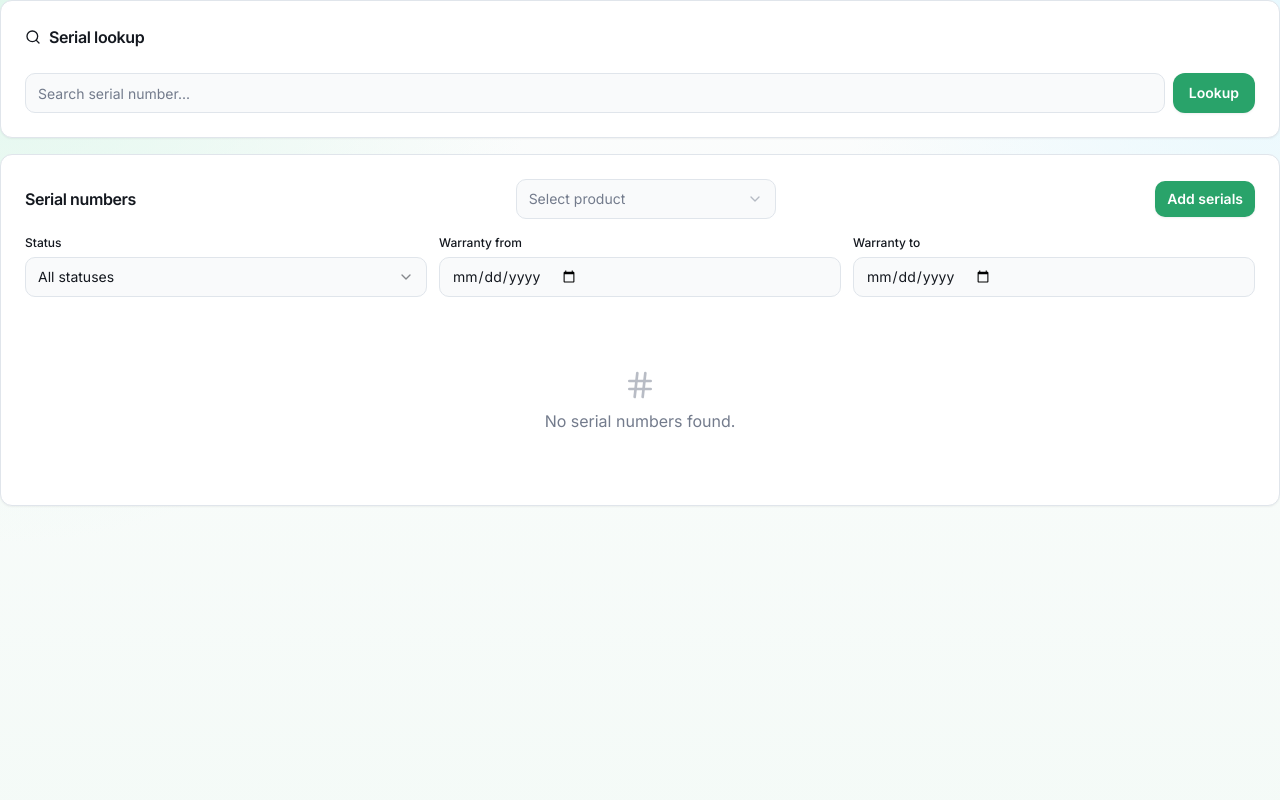
Test: SerialNumbersTab › shows serial actions in the lookup result
Type "SN-0002" into the field with placeholder "Search serial number..." at point(595, 93), box [25,73,1165,113]
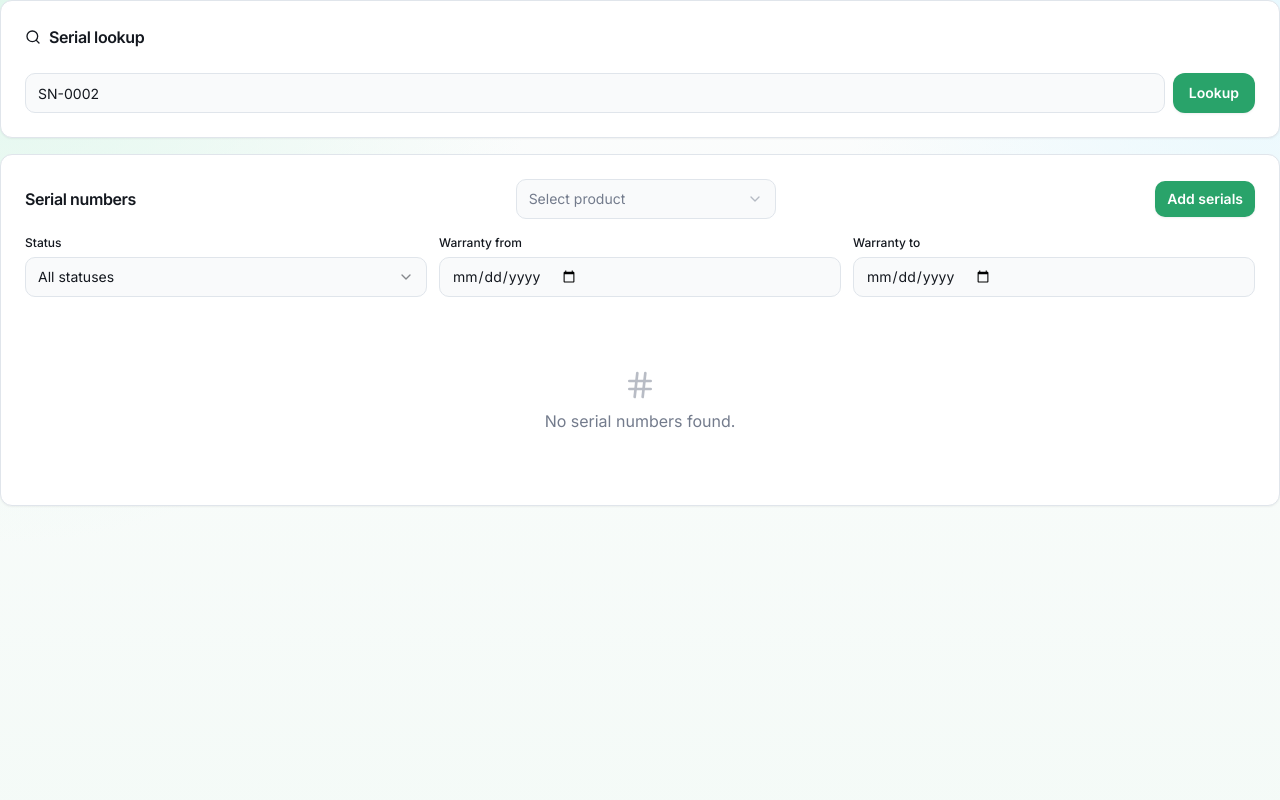
Click the button "Lookup" at point(1214, 93), box [1173,73,1255,113]
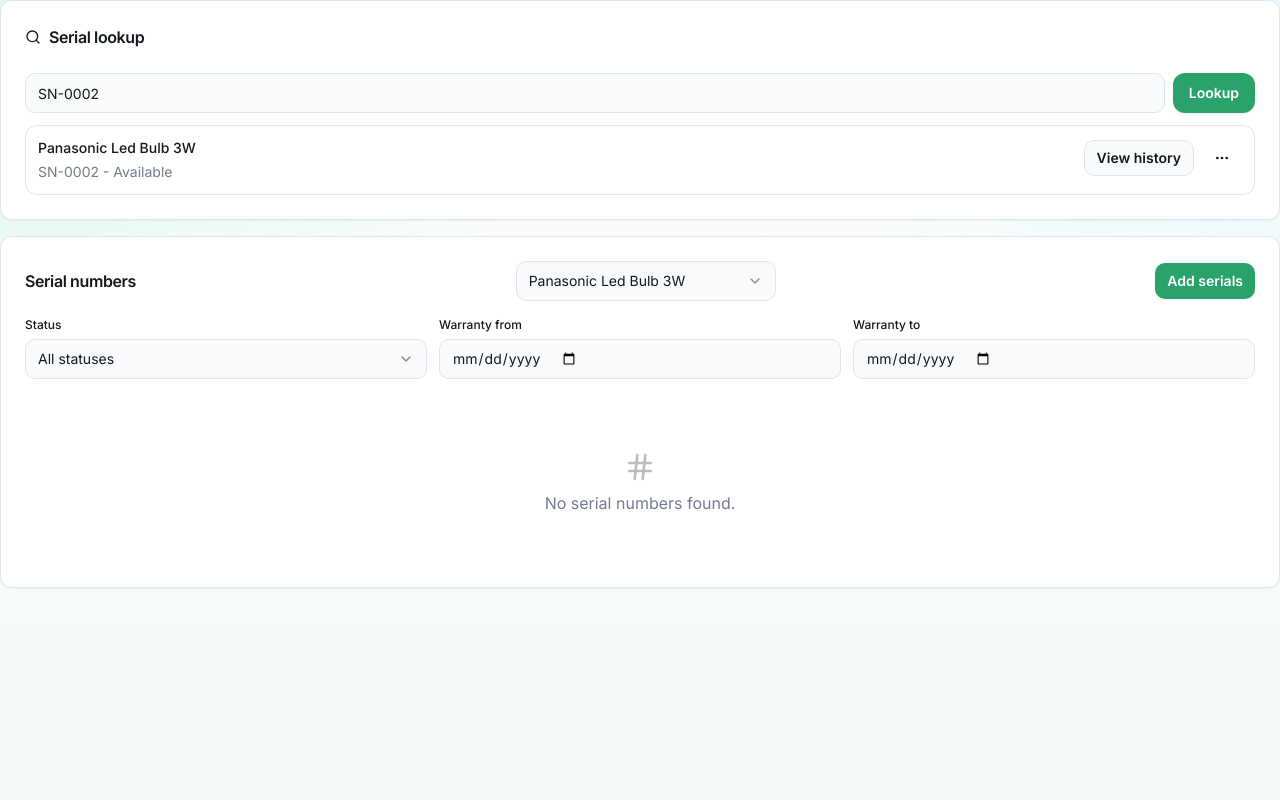
Now the button named "Open serial actions" is shown, box [1202,138,1242,178]
